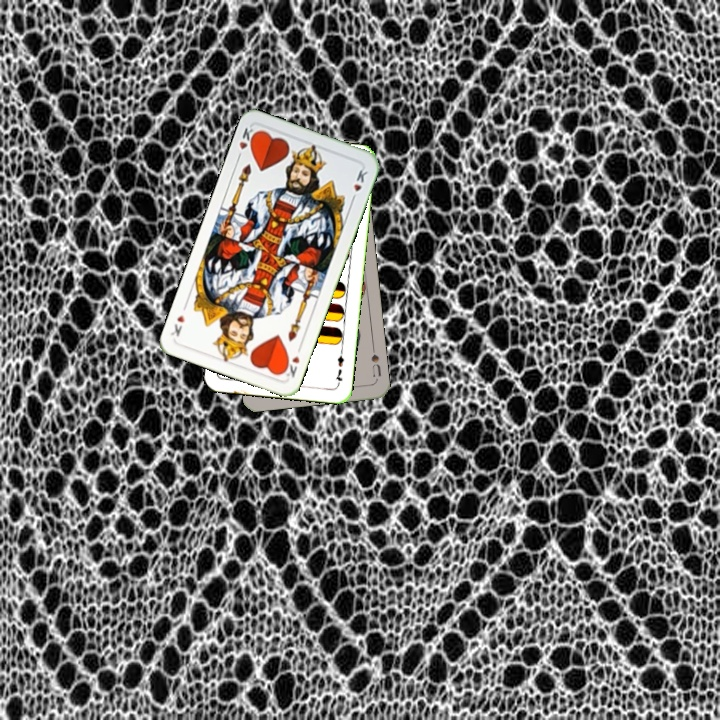E7: (331, 347, 347, 387)
HK: (233, 123, 260, 162), (278, 342, 304, 380)
SU: (367, 342, 384, 379)
